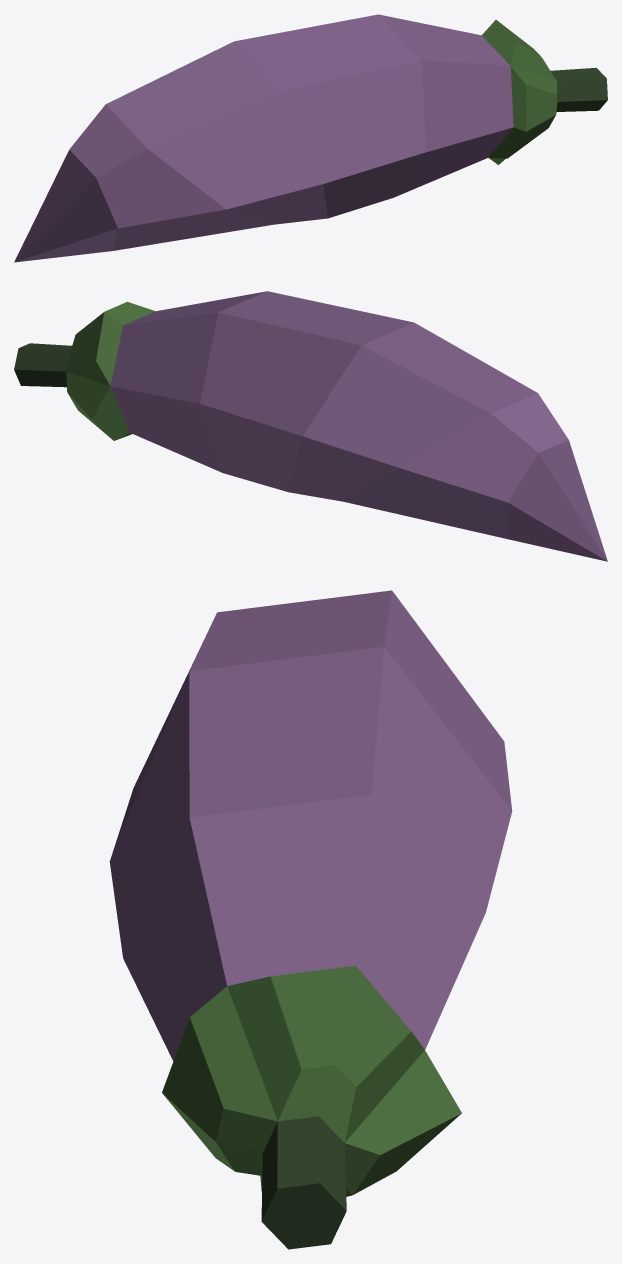
3 views of the same model, one above another, from view 1: azimuth 30°, elevation 25°; view 2: azimuth 150°, elevation 25°; view 3: azimuth 270°, elevation 25° (orthographic). The views are drawn at different scales.
Visible parts, largest first — view 1: 茄子_pCylinder4; view 2: 茄子_pCylinder4; view 3: 茄子_pCylinder4.
Part boxes in pixels (box(x1,y1,x2,y2)): 茄子_pCylinder4: box(14, 14, 607, 262); 茄子_pCylinder4: box(14, 291, 607, 561); 茄子_pCylinder4: box(109, 590, 512, 1249).
Size of the model in its own units: 7.11 by 1.88 by 2.15.
1 material, 1 textured.
